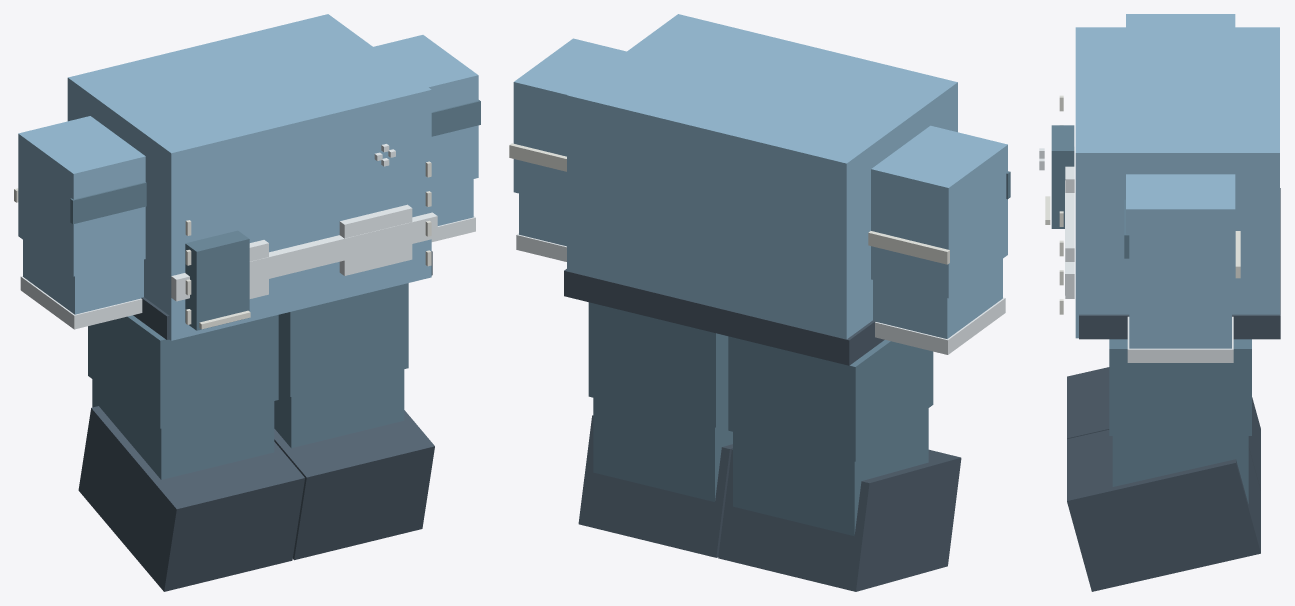
File: workwear-sky.glb
3 renders of one model, left to right at view 1: azimuth 30°, elevation 25°; view 2: azimuth 150°, elevation 25°; view 3: azimuth 270°, elevation 25°, orthographic. The views are drawn at different scales.
Visible parts, largest first — view 1: jacket, shoe-Right, trouser-Right, upper-sleeve-Right, shoe-Left, trouser-Left, lower-trouser-Right, lower-trouser-Left, upper-sleeve-Left, tool-pocket, reflective-band, lower-sleeve-Right (+8 smaller); view 2: jacket, trouser-Right, shoe-Right, upper-sleeve-Right, trouser-Left, lower-trouser-Right, lower-trouser-Left, shoe-Left, upper-sleeve-Left, utility-belt, lower-sleeve-Right, cuff-Right (+4 smaller); view 3: jacket, shoe-Left, upper-sleeve-Left, trouser-Left, lower-trouser-Left, lower-sleeve-Left, shoe-Right, utility-belt, tool-pocket, cuff-Left, upper-sleeve-Right, reflective-band (+1 smaller).
Part boxes in pixels (<box>): jacket: <box>67,14,431,340</box>; shoe-Right: <box>78,406,304,591</box>; trouser-Right: <box>88,315,278,428</box>; upper-sleeve-Right: <box>18,116,145,276</box>; shoe-Left: <box>274,410,434,560</box>; trouser-Left: <box>278,283,408,396</box>; lower-trouser-Right: <box>92,379,274,479</box>; lower-trouser-Left: <box>274,369,404,448</box>; upper-sleeve-Left: <box>373,35,478,188</box>; tool-pocket: <box>185,230,249,330</box>; reflective-band: <box>171,212,437,301</box>; lower-sleeve-Right: <box>23,240,143,314</box>; jacket: <box>567,14,957,339</box>; trouser-Right: <box>728,336,933,461</box>; shoe-Right: <box>718,449,961,591</box>; upper-sleeve-Right: <box>871,125,1007,298</box>; trouser-Left: <box>588,302,728,427</box>; lower-trouser-Right: <box>733,408,928,536</box>; lower-trouser-Left: <box>593,398,732,501</box>; shoe-Left: <box>578,415,732,557</box>; upper-sleeve-Left: <box>513,38,626,204</box>; utility-belt: <box>564,269,884,365</box>; lower-sleeve-Right: <box>873,259,1002,338</box>; cuff-Right: <box>875,297,1005,354</box>; jacket: <box>1075,27,1279,338</box>; shoe-Left: <box>1067,430,1260,591</box>; upper-sleeve-Left: <box>1126,174,1235,310</box>; trouser-Left: <box>1109,339,1251,435</box>; lower-trouser-Left: <box>1112,436,1248,503</box>; lower-sleeve-Left: <box>1129,310,1231,348</box>; shoe-Right: <box>1067,367,1260,490</box>; utility-belt: <box>1079,188,1280,339</box>; tool-pocket: <box>1051,125,1074,228</box>; cuff-Left: <box>1127,316,1233,362</box>; upper-sleeve-Right: <box>1126,14,1235,27</box>; reflective-band: <box>1065,180,1074,295</box>.
Size of the model in its own units: 1.08 by 1.13 by 0.56.
